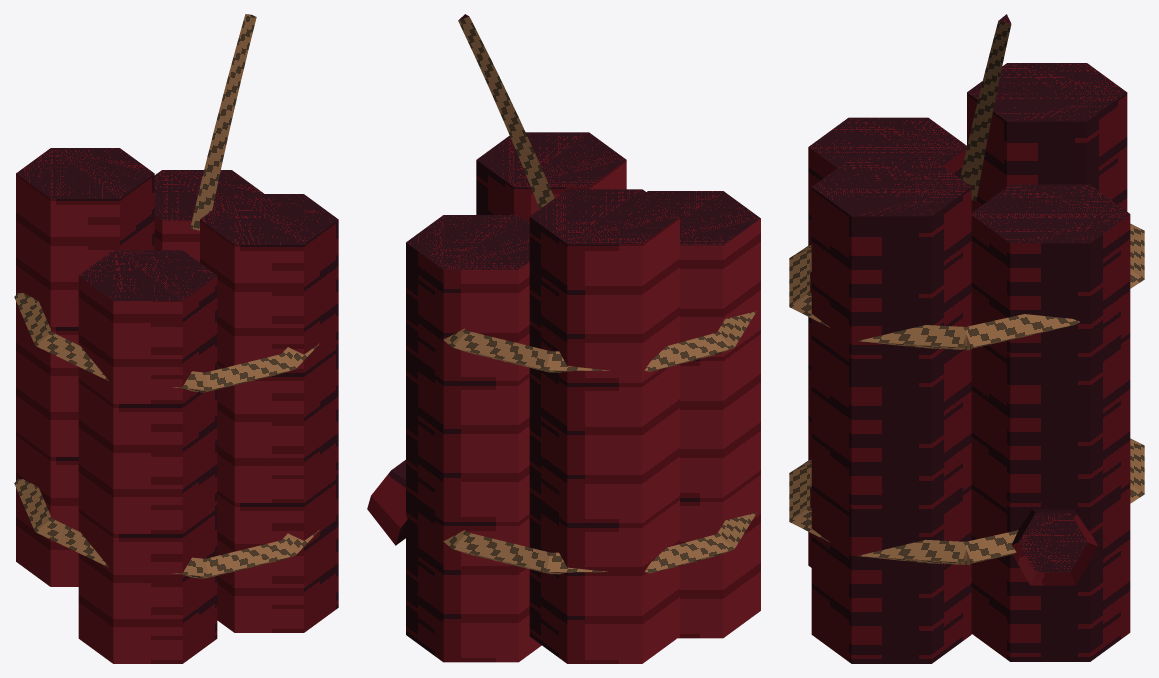
The model's file is MOB-07_Carga_explosiva.gltf.
3 renders of one model, left to right at view 1: azimuth 30°, elevation 25°; view 2: azimuth 150°, elevation 25°; view 3: azimuth 270°, elevation 25°, orthographic. The views are drawn at different scales.
Parts seen in each view (by area): view 1: MOB-07_Carga_explosiva-convcol; view 2: MOB-07_Carga_explosiva-convcol; view 3: MOB-07_Carga_explosiva-convcol.
Boxes of the visible parts, left/top/right/bottom form: MOB-07_Carga_explosiva-convcol: left=14, top=14, right=338, bottom=663; MOB-07_Carga_explosiva-convcol: left=367, top=14, right=760, bottom=663; MOB-07_Carga_explosiva-convcol: left=789, top=14, right=1144, bottom=663.
Size of the model in its own units: 0.147 by 0.2625 by 0.1331.
1 material, 1 textured.
